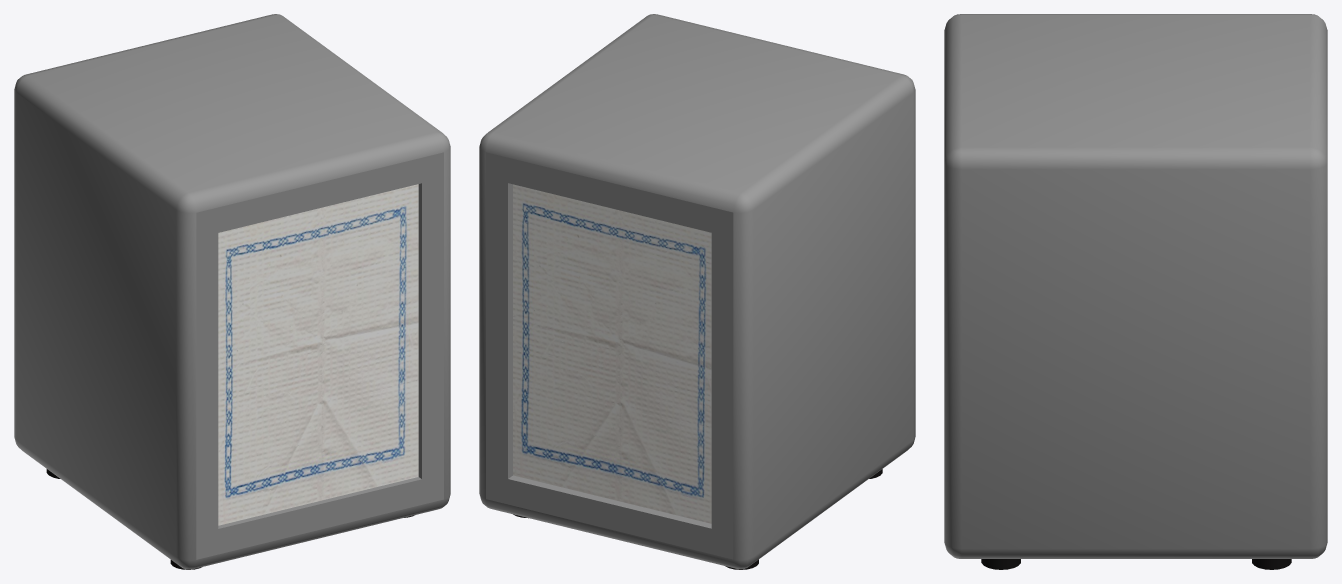
The model's file is Napkin holder.FBX.
3 renders of one model, left to right at view 1: azimuth 30°, elevation 25°; view 2: azimuth 150°, elevation 25°; view 3: azimuth 270°, elevation 25°, orthographic. The views are drawn at different scales.
Visible parts, largest first — view 1: napkin holder; view 2: napkin holder; view 3: napkin holder.
Part boxes in pixels (x1=…): napkin holder: x1=14, y1=14, x2=450, y2=569; napkin holder: x1=479, y1=14, x2=915, y2=569; napkin holder: x1=944, y1=14, x2=1327, y2=569.
Size of the model in its own units: 13.13 by 17.85 by 14.65.
Materials: 2 (1 with a texture image).
